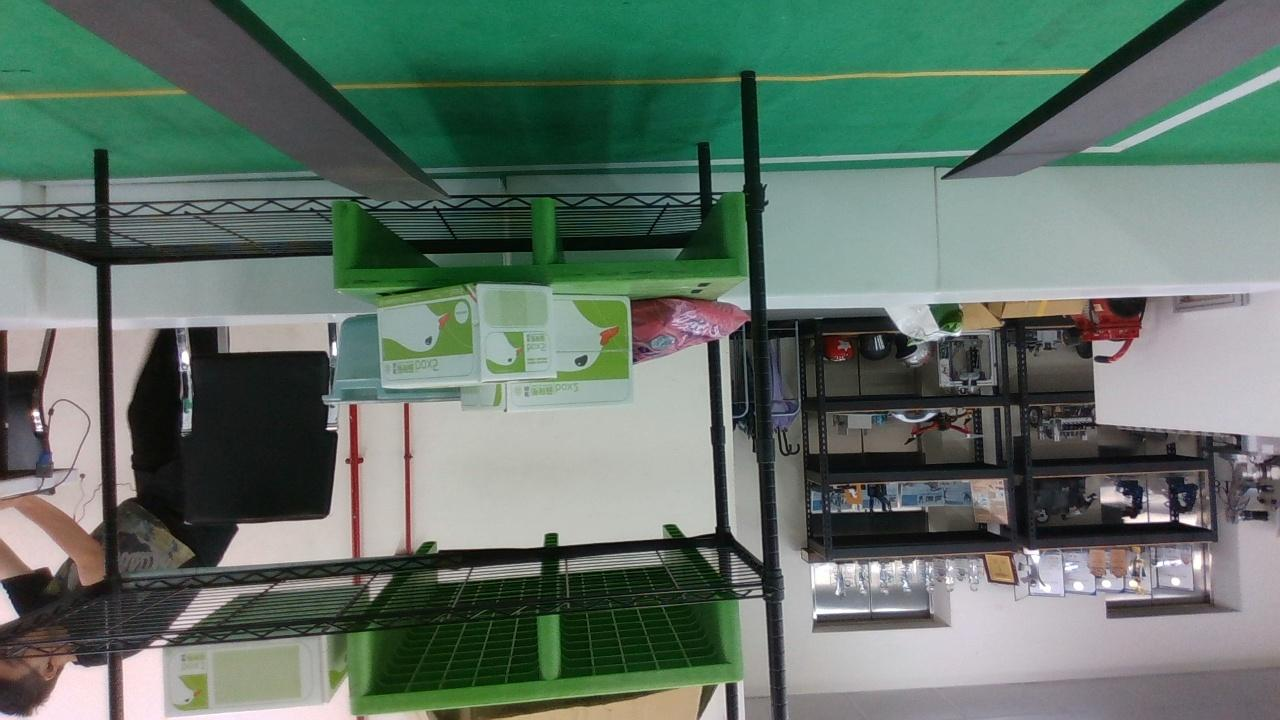Pallet: (348, 603, 746, 714), (330, 195, 749, 292)
